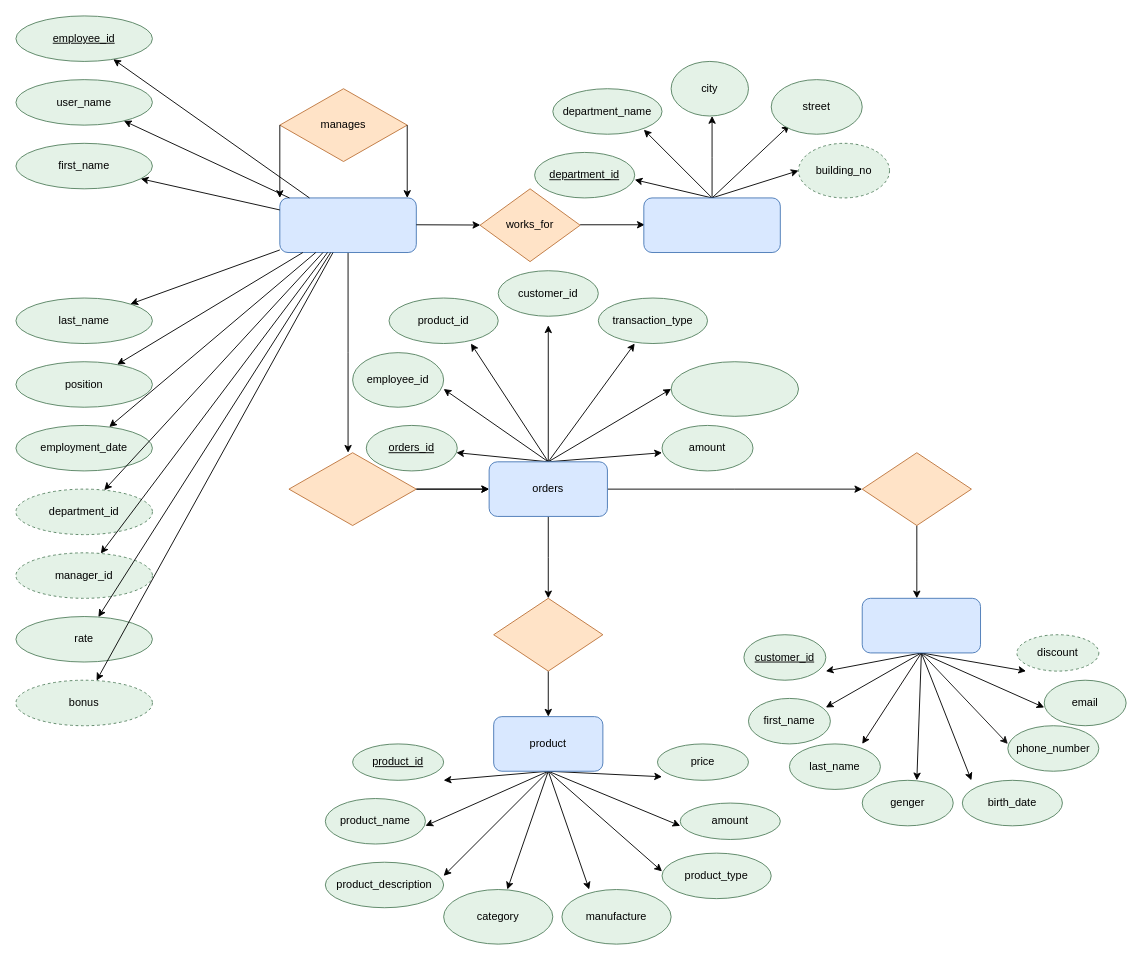
This 1142x960 diagram has some shape labels left out. The shapes that lost their labels are listed below. From the top down, each one's centre as x and y in pixels, then its label:
At point 347,225: "employee".
At point 711,225: "department".
At point 734,388: "transaction_moment".
At point 352,489: "places".
At point 916,489: "buys".
At point 548,634: "sells".
At point 921,625: "customer".
